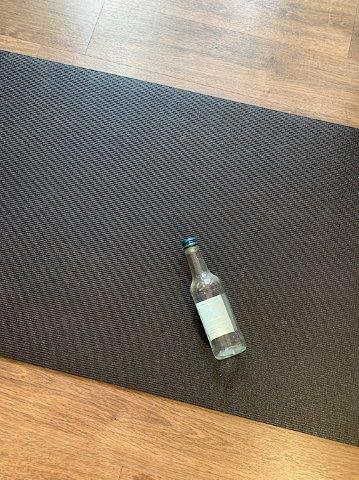botolkaca: (182, 238, 245, 361)
